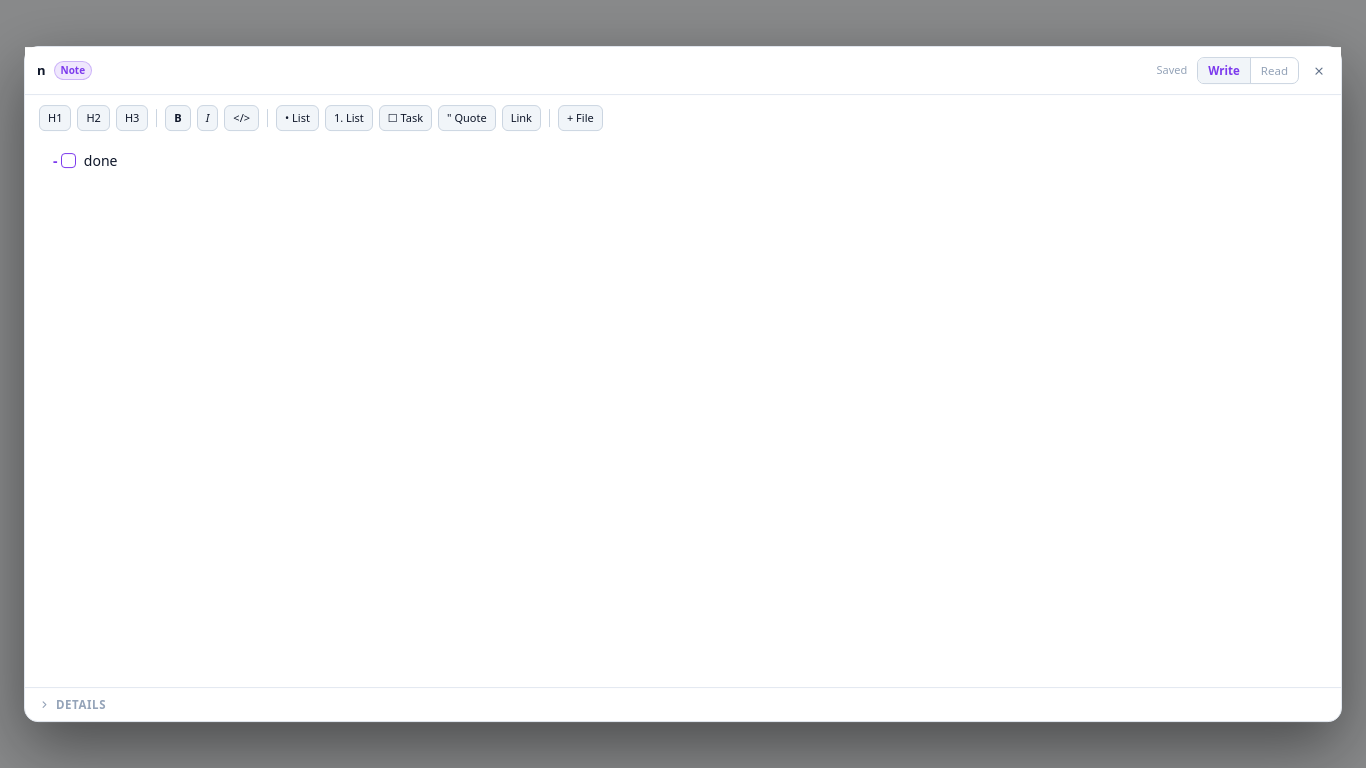
Test case: ticking a note checkbox with the mouse › unticks a checked box
The image size is (1366, 768).
Click the button "Read" at coordinates (1274, 71), box left=1250, top=58, right=1298, bottom=83
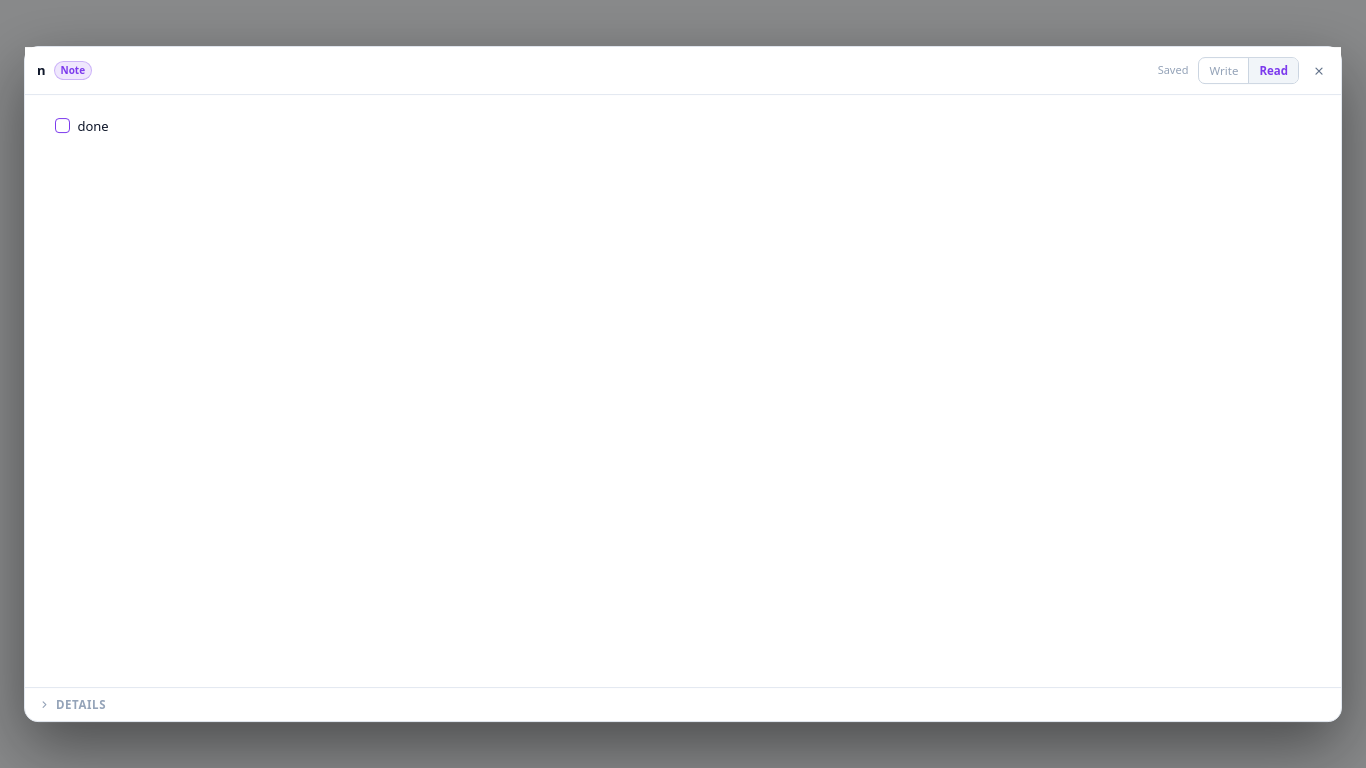
Click the checkbox at coordinates (62, 126), box left=55, top=118, right=70, bottom=133
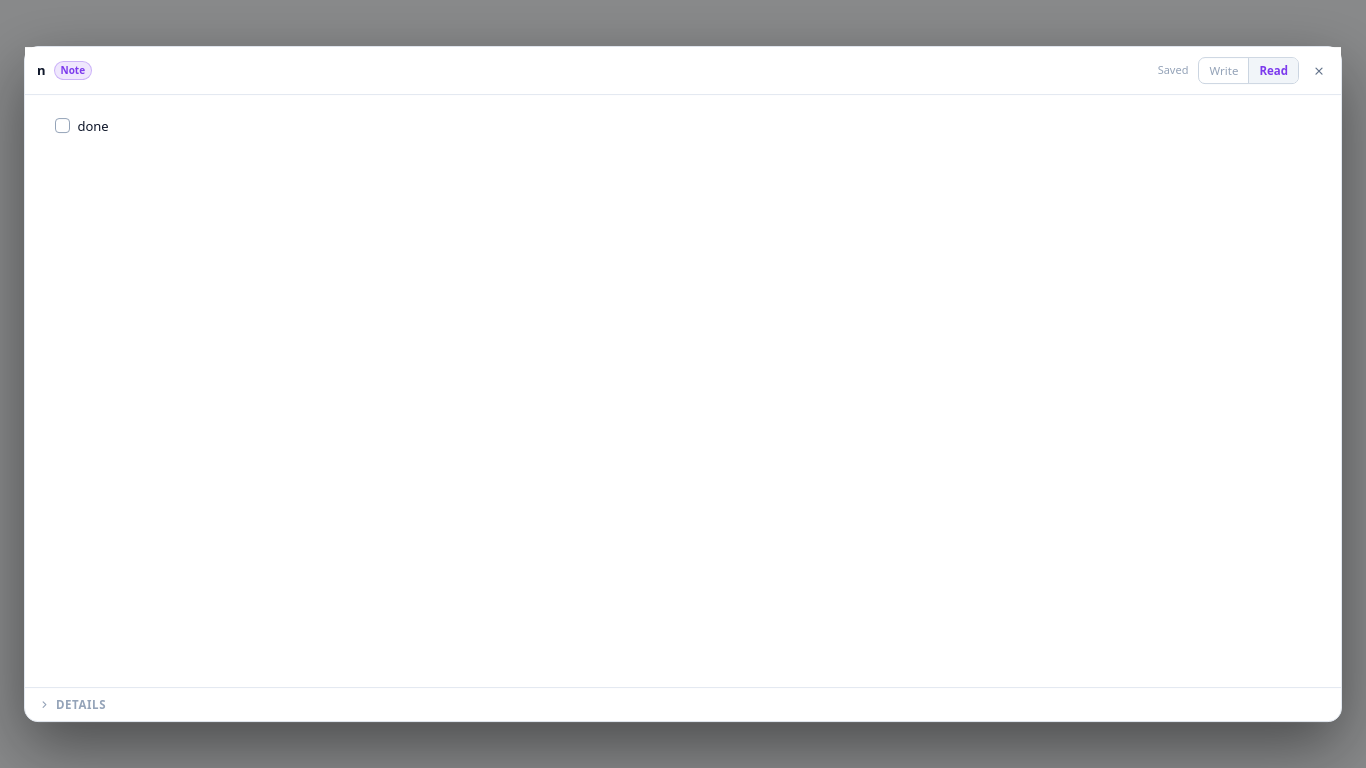
Expected: the checkbox is not checked, left=55, top=118, right=70, bottom=133
